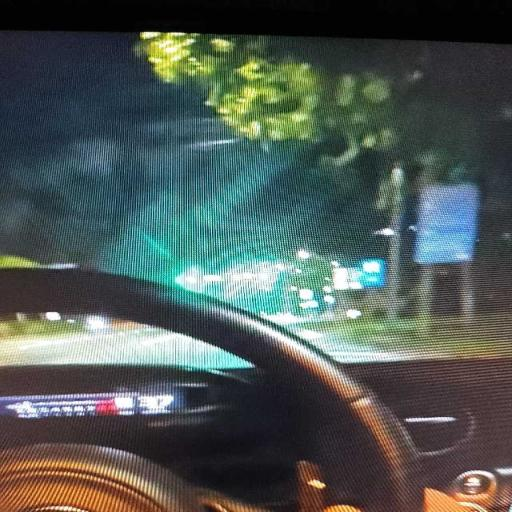car: (0, 11, 511, 511), (0, 269, 507, 511)
lane: (0, 328, 251, 369)
